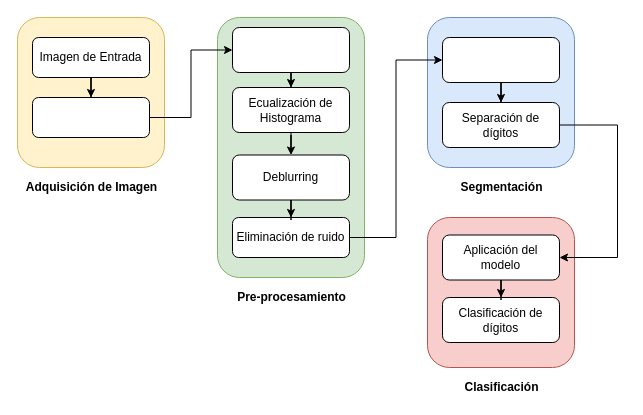
Some shapes in this 643 by 415 pixel diagram are drawn without their labels. Here are the shapes that lost their labels. From the top down, the centre of each, then its label:
At (x=291, y=49): "Binarización".
At (x=501, y=59): "Localización de dígitos".
At (x=91, y=117): "Digitalización".
